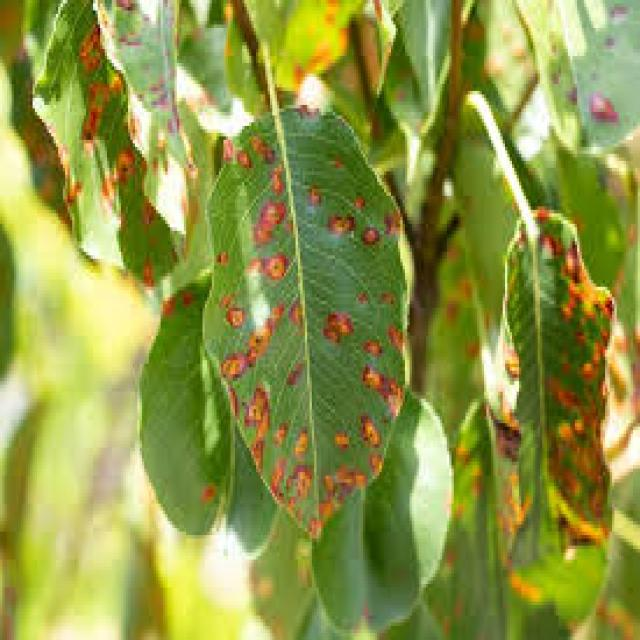leaf_rust: (202, 108, 405, 535), (505, 210, 612, 574)
